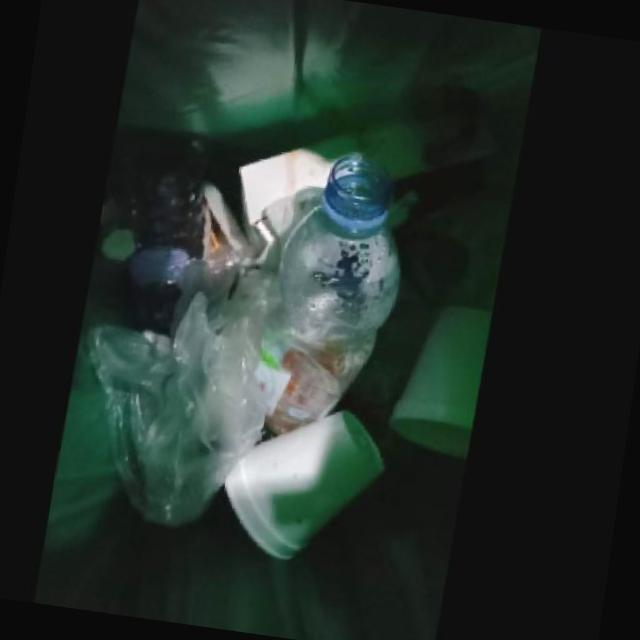chai_nhua_pet: (262, 152, 404, 437)
xop: (226, 410, 386, 560), (392, 303, 496, 460)
